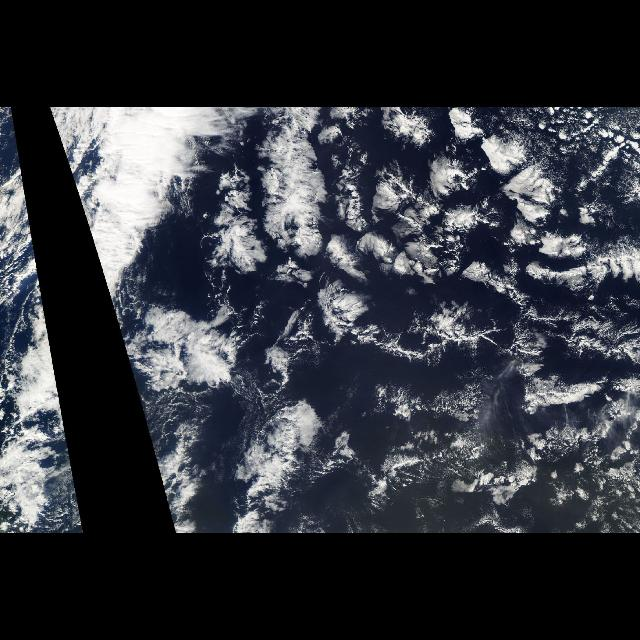Fish: (50, 109, 216, 413), (14, 117, 64, 413)
Flower: (205, 108, 615, 376)
